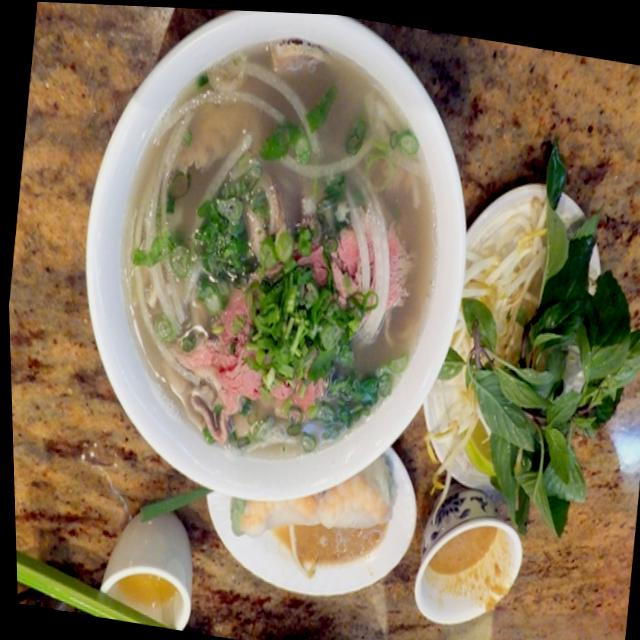面条主食: (84, 3, 487, 537)
